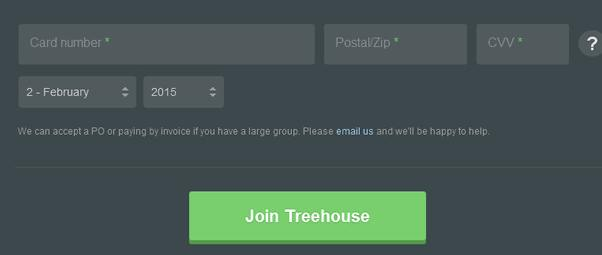button: (188, 189, 427, 245)
field: (16, 22, 317, 67), (324, 22, 469, 67), (474, 22, 568, 65), (18, 77, 138, 110), (141, 74, 227, 110)
